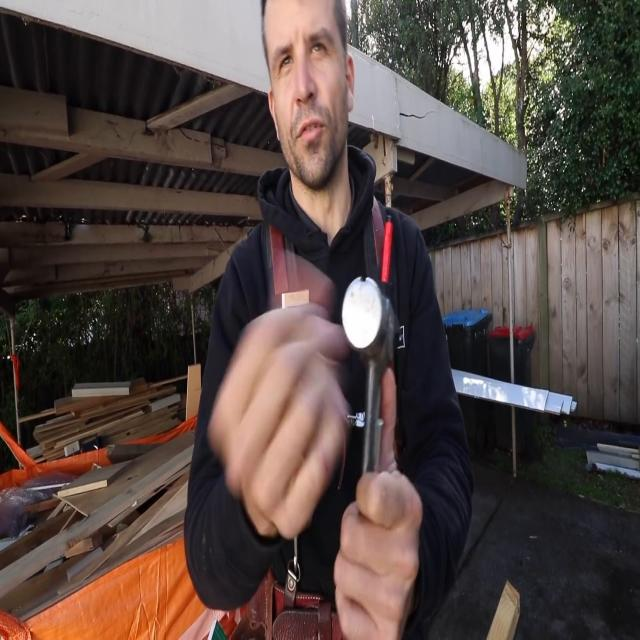hammer: (340, 273, 401, 512)
